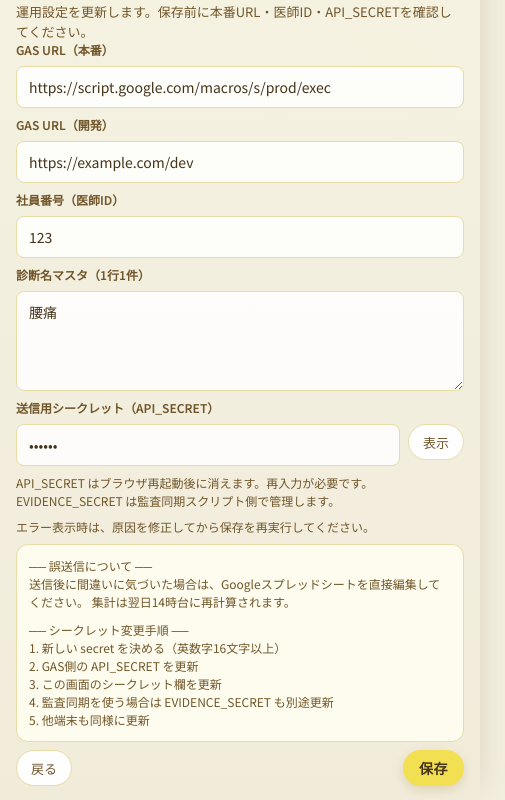
Test case: SettingsScreen › 開発URLが許可ドメイン外の場合は保存しない
This screenshot has width=505, height=800.
(page scrolled)
Click the button "保存" at [433, 768], box [403,750,464,786]
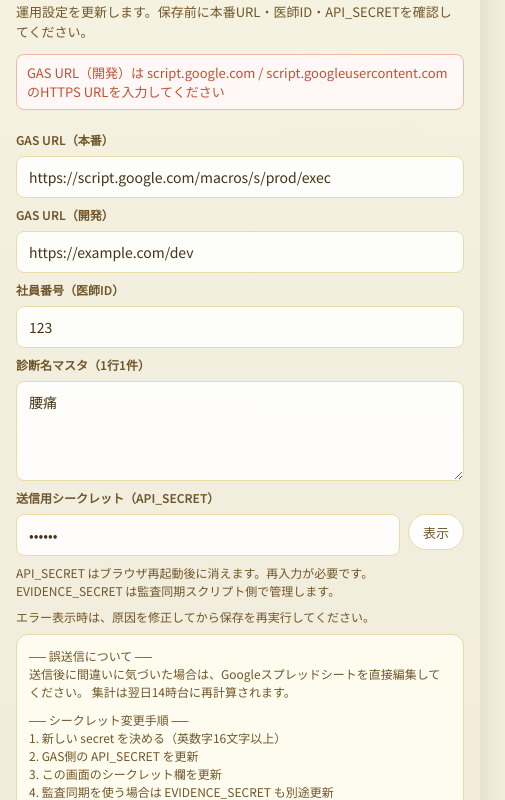
Now the text "GAS URL（開発）は script.google.com / script.googleusercontent.com のHTTPS URLを入力してください" is shown, box [27,63,448,101]
